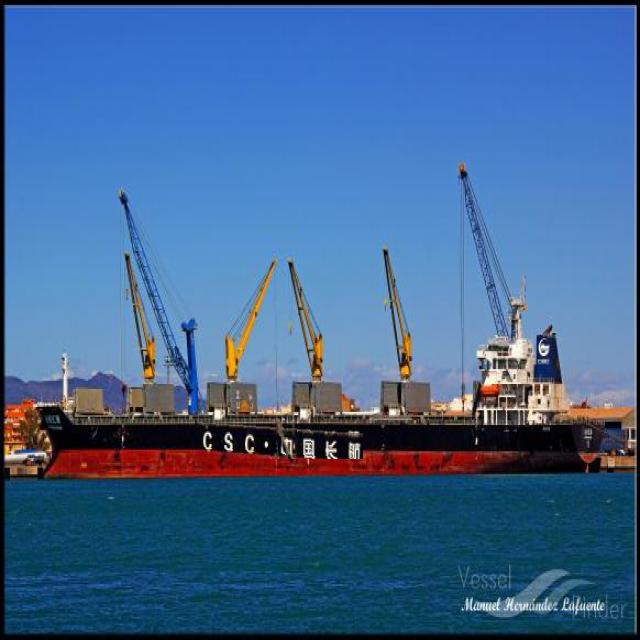OCR: (195, 421, 363, 459)
